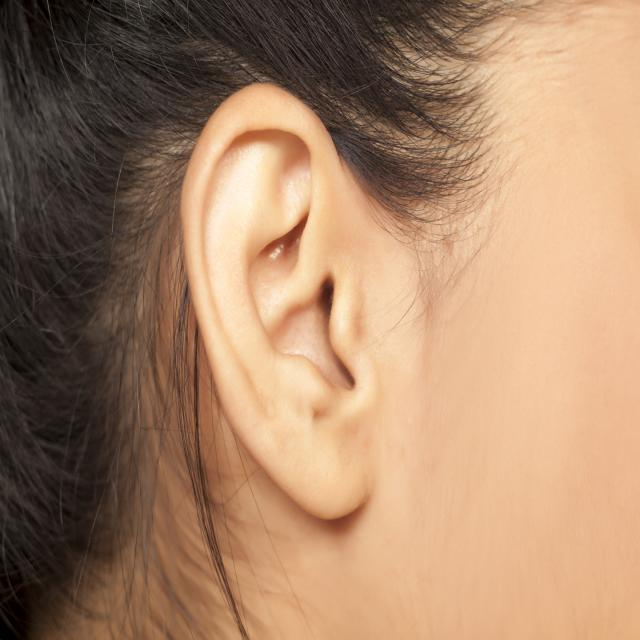earlobe: (180, 81, 369, 522)
